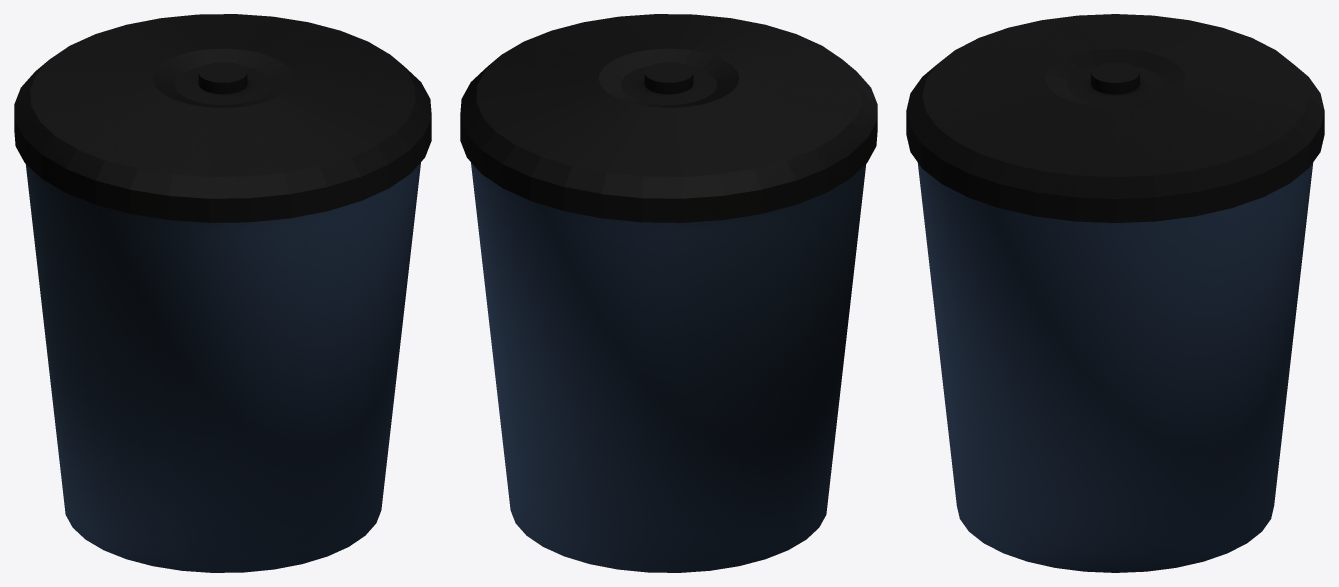
The model's file is lixo.obj.
3 renders of one model, left to right at view 1: azimuth 30°, elevation 25°; view 2: azimuth 150°, elevation 25°; view 3: azimuth 270°, elevation 25°, orthographic.
Parts seen in each view (by area): view 1: Circle.005_Circle.005_lixo, Circle.005_Circle.005_tampa-lixo; view 2: Circle.005_Circle.005_lixo, Circle.005_Circle.005_tampa-lixo; view 3: Circle.005_Circle.005_lixo, Circle.005_Circle.005_tampa-lixo.
Boxes of the visible parts, left/top/right/bottom form: Circle.005_Circle.005_lixo: left=25, top=162, right=420, bottom=572; Circle.005_Circle.005_tampa-lixo: left=14, top=14, right=431, bottom=222; Circle.005_Circle.005_lixo: left=471, top=162, right=866, bottom=572; Circle.005_Circle.005_tampa-lixo: left=460, top=14, right=877, bottom=222; Circle.005_Circle.005_lixo: left=917, top=162, right=1313, bottom=572; Circle.005_Circle.005_tampa-lixo: left=906, top=14, right=1324, bottom=222.
Bounding box in the file's own units: 2.39 × 2.73 × 2.39.
2 materials, 2 textured.
